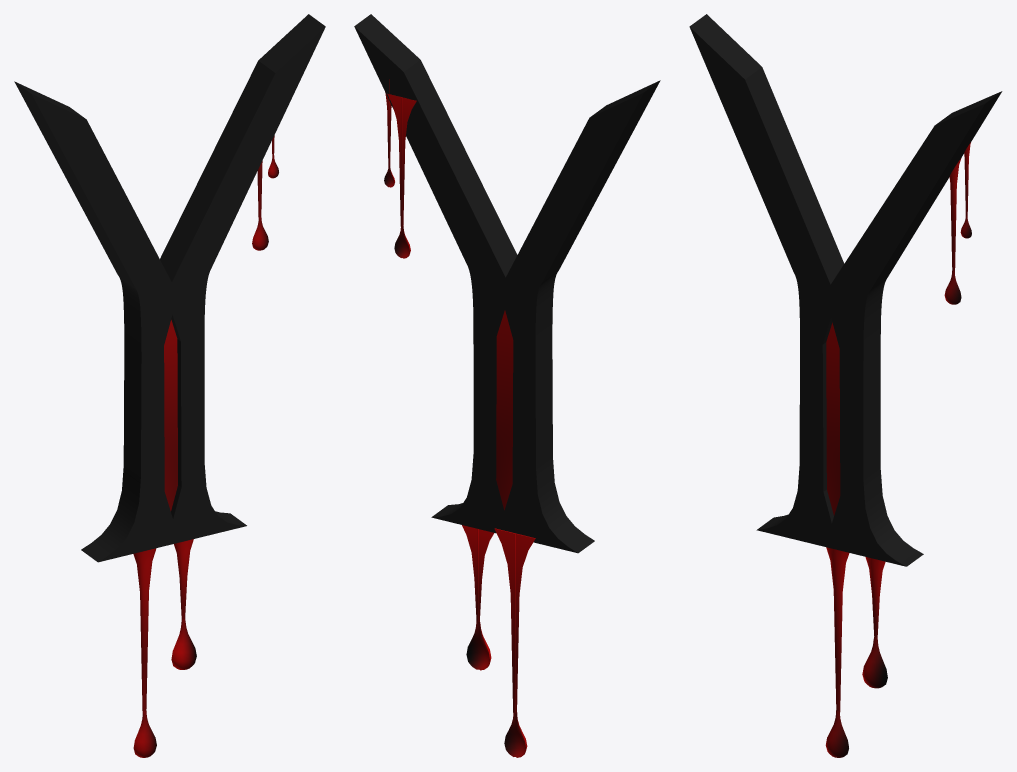
3 views of the same model, side by side, from view 1: azimuth 30°, elevation 25°; view 2: azimuth 150°, elevation 25°; view 3: azimuth 330°, elevation 25° (orthographic). The views are drawn at different scales.
Visible parts, largest first — view 1: Y, Y_Element, Blood_263, Blood_264, Blood_232; view 2: Y, Y_Element, Blood_263, Blood_264, Blood_232; view 3: Y, Y_Element, Blood_263, Blood_264, Blood_232.
Boxes of the visible parts, box(x1,y1,x2,y2) form: Y: box(14, 14, 325, 562); Y_Element: box(164, 320, 177, 511); Blood_263: box(133, 548, 156, 757); Blood_264: box(171, 539, 196, 669); Blood_232: box(252, 161, 268, 250); Y: box(354, 14, 660, 553); Y_Element: box(496, 310, 513, 510); Blood_263: box(494, 528, 535, 757); Blood_264: box(462, 525, 494, 670); Blood_232: box(387, 93, 416, 258); Y: box(689, 14, 1002, 566); Y_Element: box(826, 322, 840, 515); Blood_263: box(825, 547, 849, 757); Blood_264: box(862, 557, 887, 688); Blood_232: box(944, 158, 961, 304).
Size of the model in its own units: 49.47 by 114 by 5.16.
Materials: 2 (1 with a texture image).
